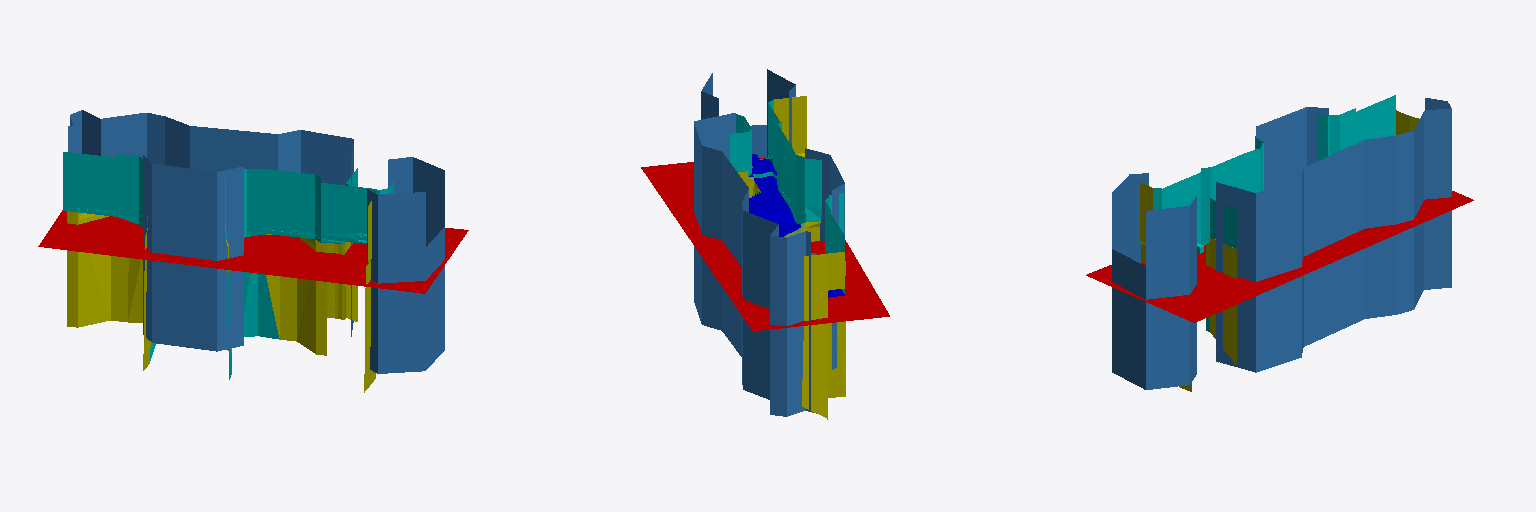
File: STG0100_COLI_16.OBJ
The picture shows the model from 3 angles: view 1: azimuth 30°, elevation 25°; view 2: azimuth 150°, elevation 25°; view 3: azimuth 270°, elevation 25°; orthographic projection.
Visible parts, largest first — view 1: STG0100_COLI_16_[number redacted], STG0100_COLI_16_[number redacted], STG0100_COLI_16_[number redacted], STG0100_COLI_16_[number redacted]; view 2: STG0100_COLI_16_[number redacted], STG0100_COLI_16_[number redacted], STG0100_COLI_16_[number redacted], STG0100_COLI_16_[number redacted], STG0100_COLI_16_[number redacted]; view 3: STG0100_COLI_16_[number redacted], STG0100_COLI_16_[number redacted], STG0100_COLI_16_[number redacted], STG0100_COLI_16_[number redacted].
Boxes of the visible parts, box(x1,y1,x2,y2) form: STG0100_COLI_16_[number redacted]: box(68, 110, 444, 373); STG0100_COLI_16_[number redacted]: box(63, 152, 393, 379); STG0100_COLI_16_[number redacted]: box(67, 151, 376, 392); STG0100_COLI_16_[number redacted]: box(38, 210, 468, 293); STG0100_COLI_16_[number redacted]: box(694, 69, 844, 416); STG0100_COLI_16_[number redacted]: box(641, 158, 889, 330); STG0100_COLI_16_[number redacted]: box(738, 96, 845, 419); STG0100_COLI_16_[number redacted]: box(730, 100, 844, 293); STG0100_COLI_16_[number redacted]: box(749, 154, 844, 297); STG0100_COLI_16_[number redacted]: box(1112, 98, 1451, 389); STG0100_COLI_16_[number redacted]: box(1153, 95, 1395, 331); STG0100_COLI_16_[number redacted]: box(1086, 191, 1473, 322); STG0100_COLI_16_[number redacted]: box(1140, 110, 1419, 391).
Size of the model in its own units: 3508 by 2064 by 3479.